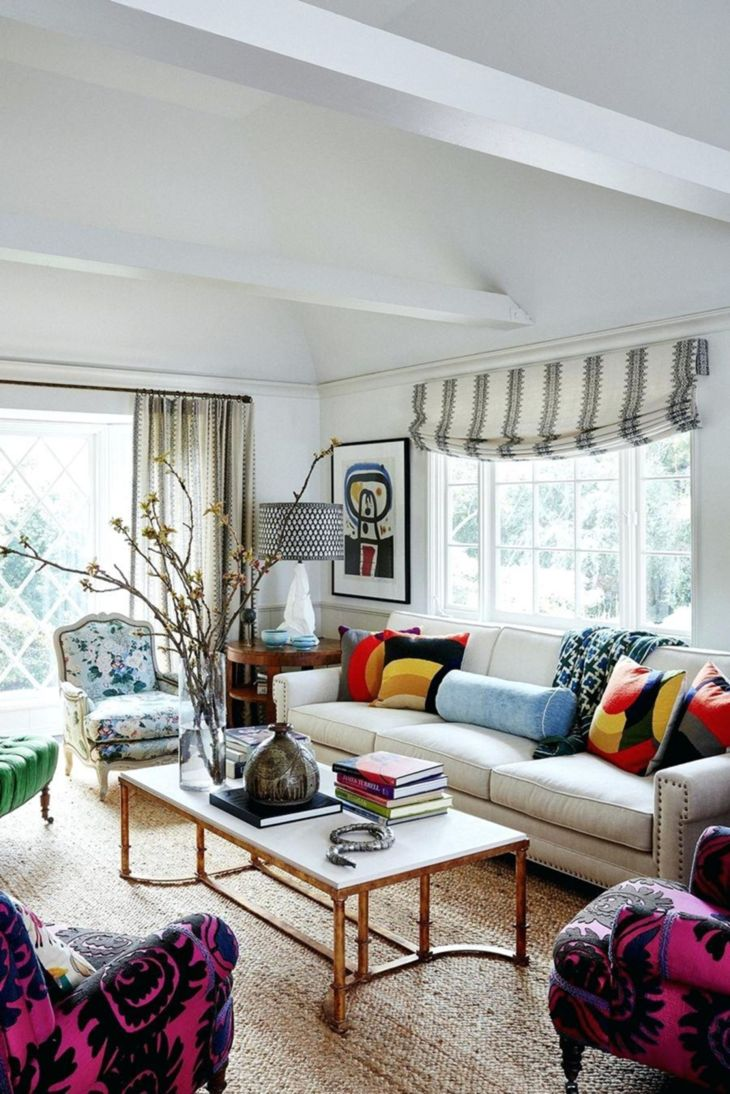biru: (436, 672, 569, 742), (264, 630, 285, 647), (296, 639, 316, 652)
hijau: (1, 736, 60, 811)
putih: (285, 564, 316, 636)
